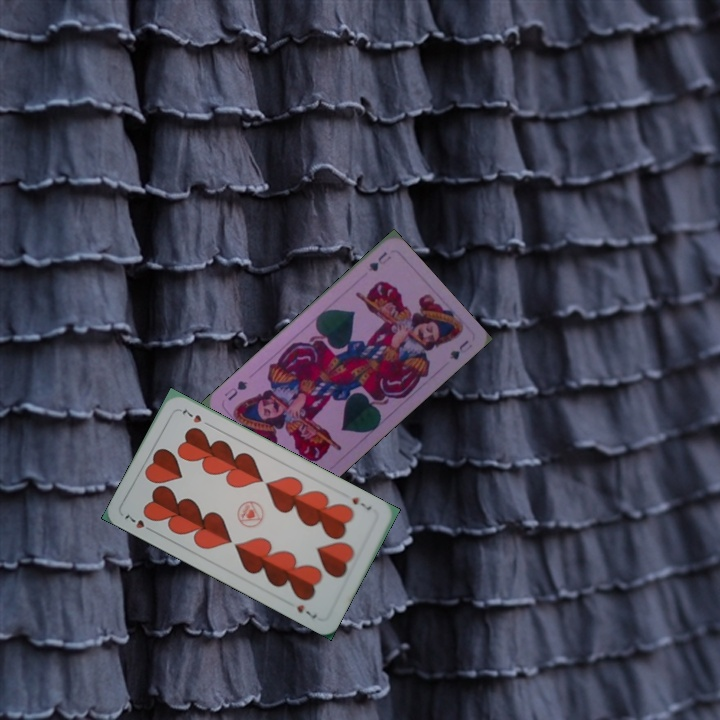GU: (364, 248, 394, 274)
H7: (120, 511, 157, 535), (348, 493, 374, 513)
